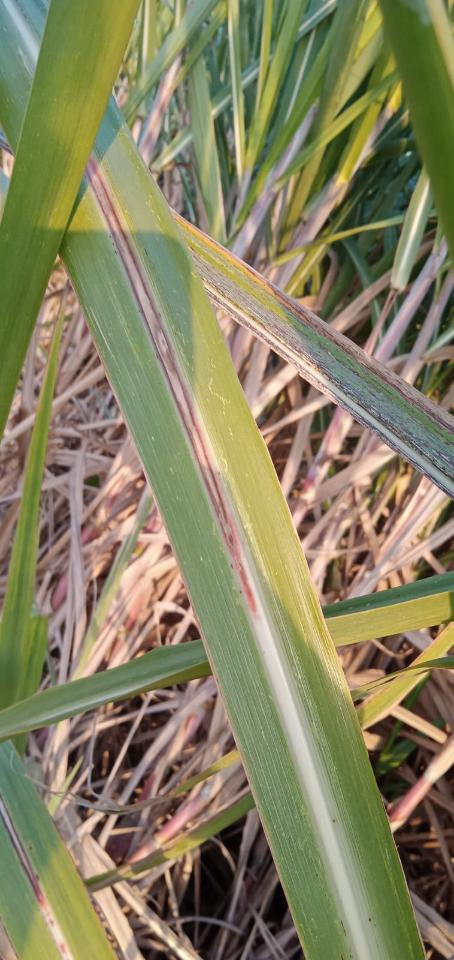RedRot: (84, 155, 261, 624)
Rust: (166, 205, 454, 501)
